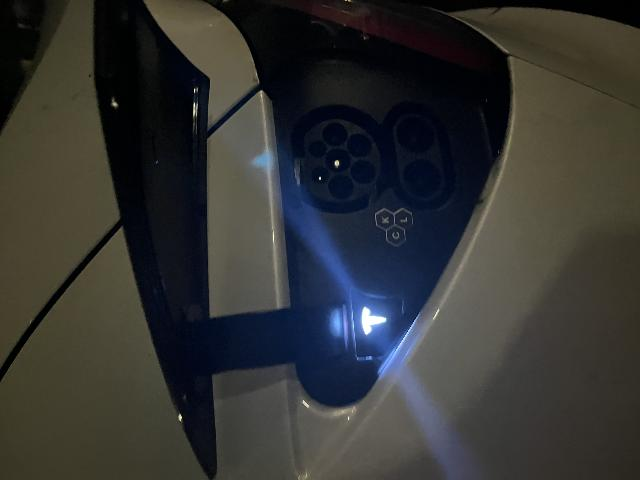inlet: (277, 304, 361, 381)
inlet-above-left: (296, 312, 314, 329)
inlet-above-right: (322, 309, 340, 326)
inlet-below-left: (296, 350, 320, 375)
inlet-below-right: (322, 347, 346, 372)
inlet-circle: (307, 325, 332, 351)
inlet-circle-left: (281, 328, 306, 354)
inlet-circle-right: (334, 322, 358, 348)
inlet-minus: (327, 397, 363, 434)
inlet-plus: (282, 405, 321, 441)
